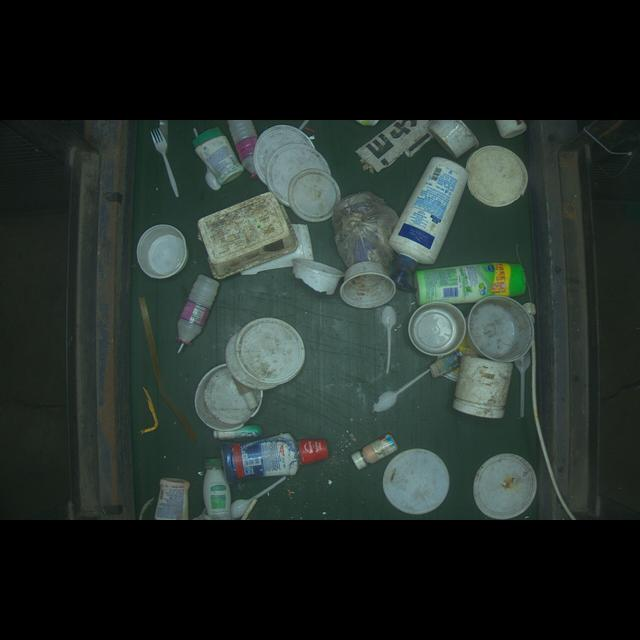mix PP: (392, 149, 467, 268), (409, 261, 536, 304), (220, 436, 331, 476), (193, 125, 242, 184), (344, 434, 399, 468)
